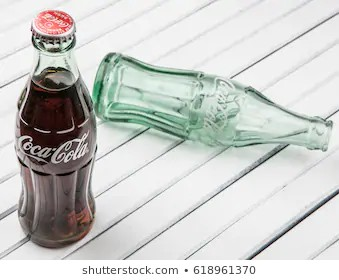coke-glass-bottle: (13, 11, 99, 247)
